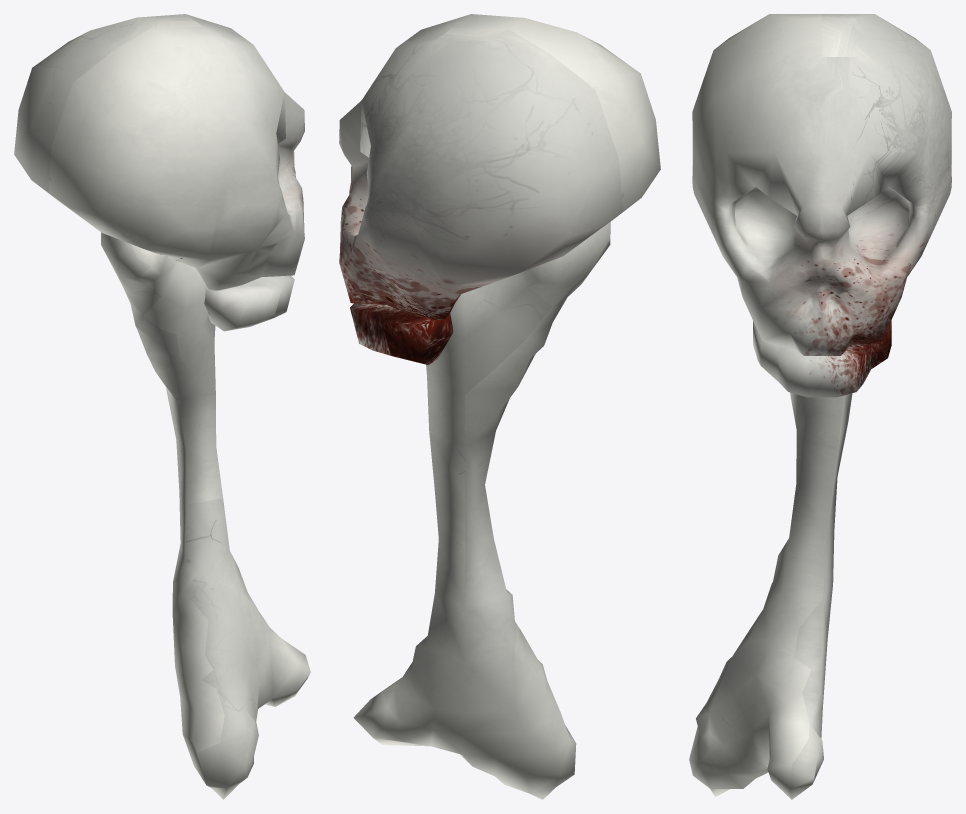
The model's file is MOD_Misc_Anthony.fbx.
3 views of the same model, side by side, from view 1: azimuth 30°, elevation 25°; view 2: azimuth 150°, elevation 25°; view 3: azimuth 270°, elevation 25° (orthographic). The views are drawn at different scales.
Visible parts, largest first — view 1: Femur; view 2: Femur; view 3: Femur.
Part boxes in pixels (box(x1,y1,x2,y2)): Femur: box(14, 14, 310, 799); Femur: box(339, 14, 660, 799); Femur: box(689, 14, 951, 799).
Bounding box in the file's own units: 1.25 × 3.5 × 1.09.
